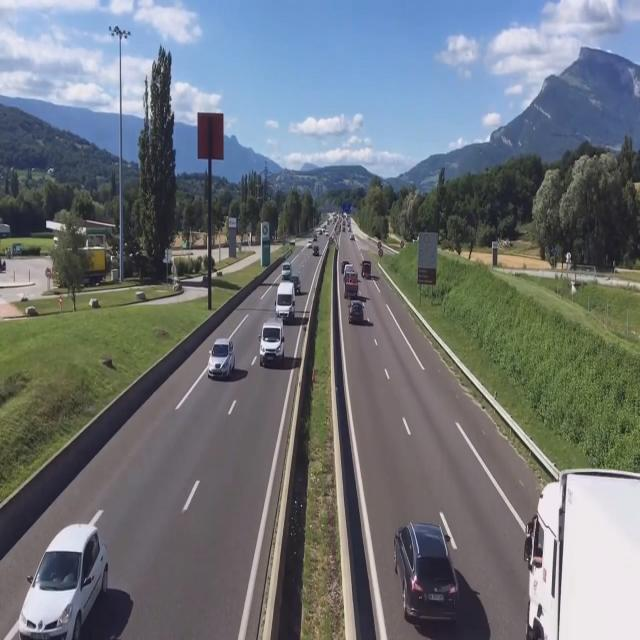bus: (276, 280, 294, 322)
car: (15, 520, 113, 638), (395, 519, 459, 635), (261, 321, 287, 368), (208, 340, 236, 382), (349, 302, 365, 326)
truck: (523, 464, 639, 640), (344, 266, 358, 298)
